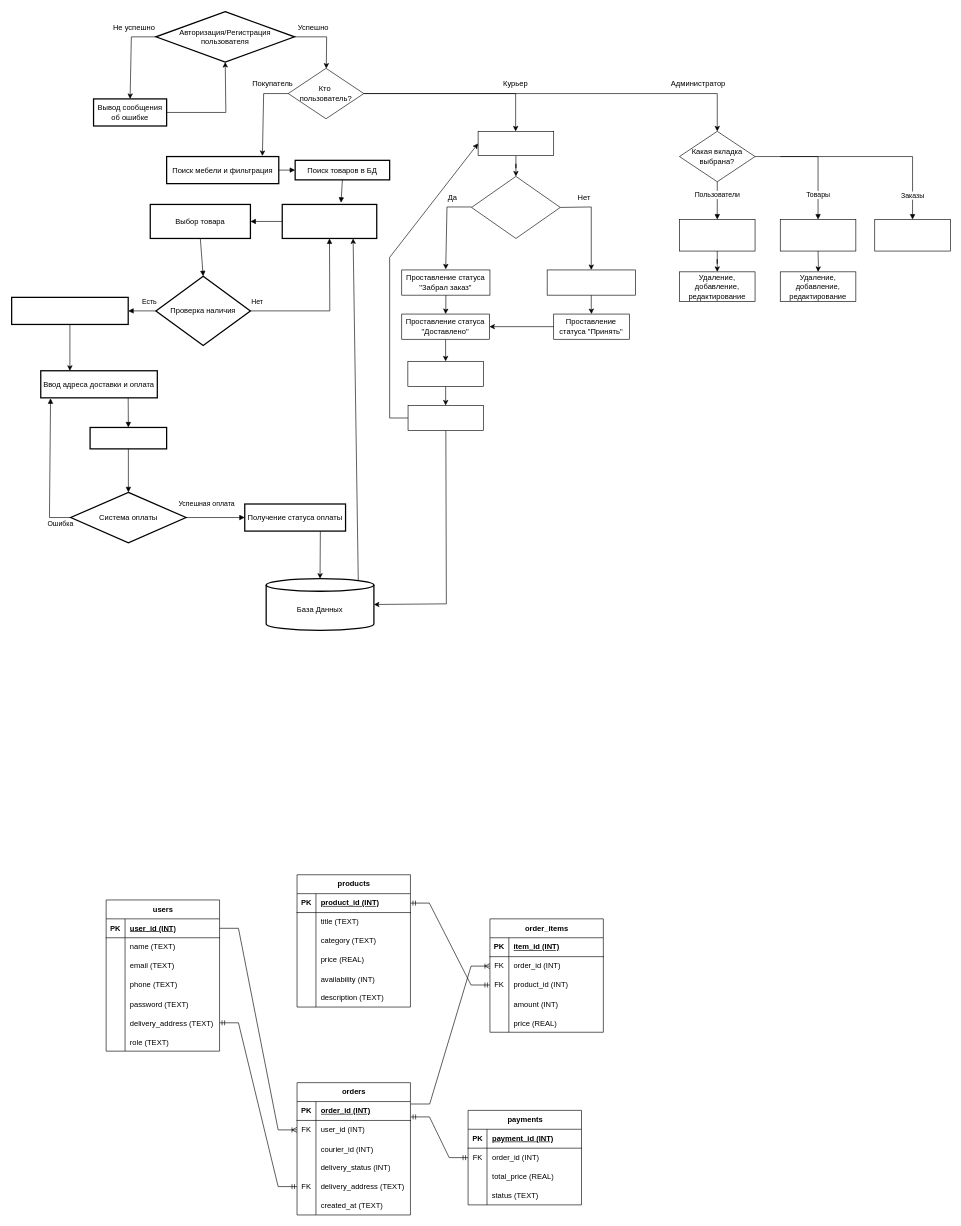
Image size: 961x1226. Some labels were removed from this diagram. The centre of each missing label's shape, as x and y in pixels:
"Выбор доступного заказа" belongs at (x=591, y=282).
"Добавление товара в корзину" belongs at (x=70, y=310).
"Есть ли активный заказ?" belongs at (x=515, y=207).
"Занесение заказа в статистику курьера" belongs at (x=445, y=418).
"Отображение всех заказов" belongs at (x=912, y=235).
"Отображение всех зарегистрированных пользователей" belongs at (x=717, y=235).
"Отображение всех товаров" belongs at (x=818, y=235).
"Отображение каталога" belongs at (x=329, y=221).
"Отображение списка активных заказов" belongs at (x=515, y=143).
"Расчет стоимости" belongs at (x=128, y=438).
"Удаление заказа из списка заказов" belongs at (x=445, y=374).
